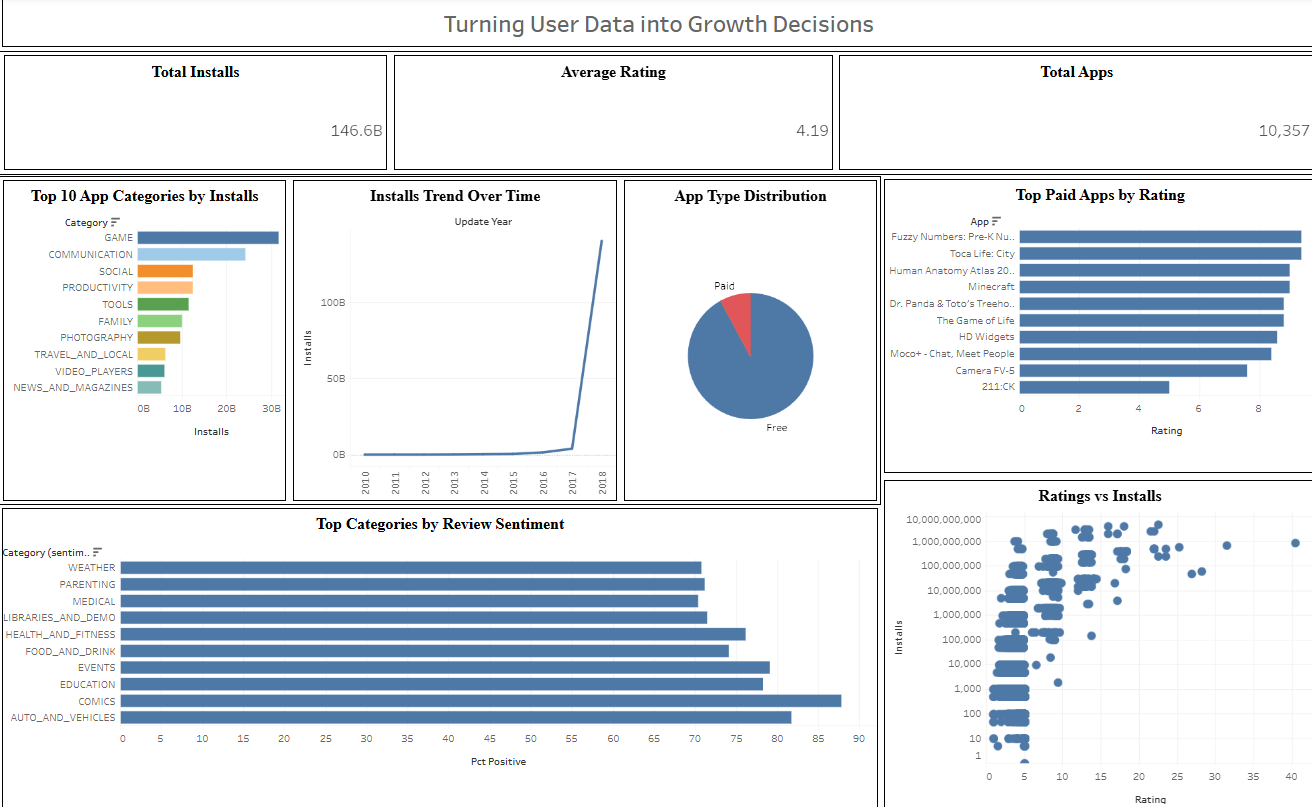

Layout of this report page (visuals, bound fields, positions):
{"tool":"tableau","page":{"name":"Google Play Store - Growth Decisions Dashboard","canvas":[1600,1000],"ordinal":0},"visuals":[{"type":"text","box":[8,8,1584,67]},{"type":"worksheet","title":"KPI_Total_Installs","mark":"Automatic","box":[10,77,467.7,146]},{"type":"worksheet","title":"KPI_Avg_Rating","mark":"Automatic","box":[477.7,77,535.3,146]},{"type":"worksheet","title":"KPI_Total_Apps","mark":"Automatic","box":[1013,77,577,146]},{"type":"worksheet","title":"Chart_Top_Paid_Apps","mark":"Automatic","rows":["App"],"cols":["Rating"],"box":[1067.2,225,524.8,361]},{"type":"worksheet","title":"Chart_Top_Categories","mark":"Automatic","rows":["Category"],"cols":["Installs"],"box":[9,226,348,393]},{"type":"worksheet","title":"Chart_Installs_Trend","mark":"Line","rows":["Installs"],"cols":["Update_Year"],"box":[357,226,397.1,393]},{"type":"worksheet","title":"Chart_Type_Distribution","mark":"Pie","box":[754.1,226,312,393]},{"type":"worksheet","title":"Chart_Ratings_vs_Installs","mark":"Circle","rows":["Installs"],"cols":["Rating"],"box":[1067.2,586,524.8,406]},{"type":"worksheet","title":"Chart_Sentiment_by_Category","mark":"Automatic","rows":["Category (sentiment_by_category.csv)"],"cols":["Pct_Positive"],"box":[8,620,1059.2,372]}]}

Visuals, with their boxes in screenshot pixels (x1, y1, x2, y2), scaled from the page's 1600x1000 canvas onto the 1312x807 screenshot:
text: Rect(7, 6, 1305, 61)
"KPI_Total_Installs" worksheet: Rect(8, 62, 392, 180)
"KPI_Avg_Rating" worksheet: Rect(392, 62, 831, 180)
"KPI_Total_Apps" worksheet: Rect(831, 62, 1304, 180)
"Chart_Top_Paid_Apps" worksheet: Rect(875, 182, 1305, 473)
"Chart_Top_Categories" worksheet: Rect(7, 182, 293, 500)
"Chart_Installs_Trend" worksheet (Line marks): Rect(293, 182, 618, 500)
"Chart_Type_Distribution" worksheet (Pie marks): Rect(618, 182, 874, 500)
"Chart_Ratings_vs_Installs" worksheet (Circle marks): Rect(875, 473, 1305, 801)
"Chart_Sentiment_by_Category" worksheet: Rect(7, 500, 875, 801)
